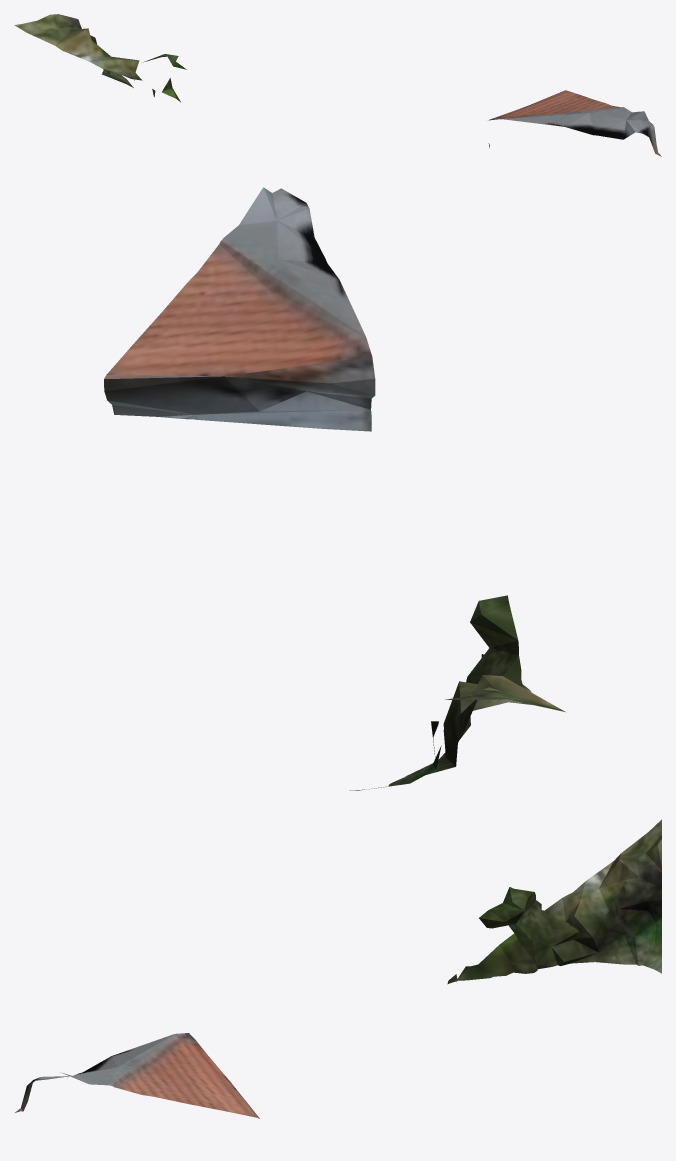
3 views of the same model, one above another, from view 1: azimuth 30°, elevation 25°; view 2: azimuth 150°, elevation 25°; view 3: azimuth 270°, elevation 25° (orthographic). The views are drawn at different scales.
Size of the model in its own units: 18.34 by 3.06 by 20.68.
1 material, 1 textured.
